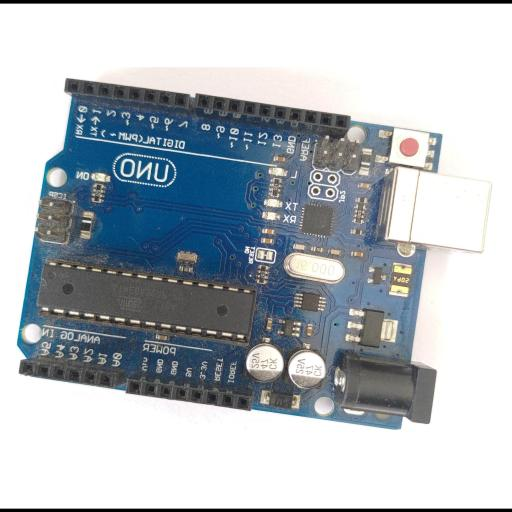Arduino Uno R3: (15, 76, 491, 430)
